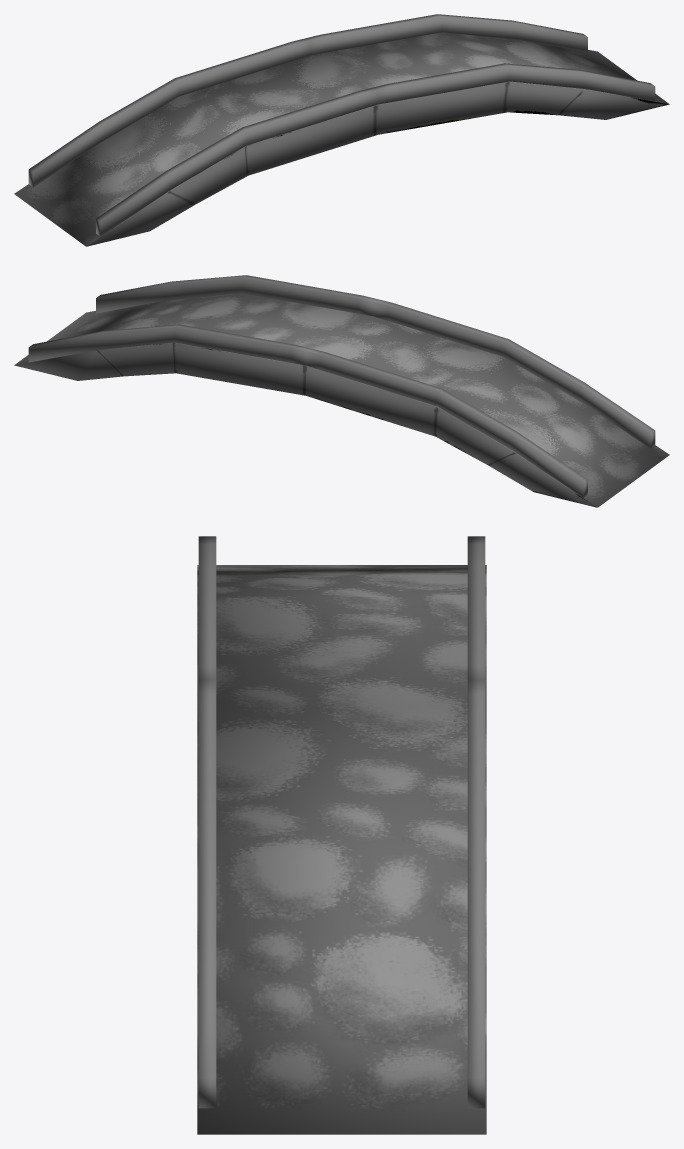
The model's file is betterbridge.glb.
3 renders of one model, top to bottom at view 1: azimuth 30°, elevation 25°; view 2: azimuth 150°, elevation 25°; view 3: azimuth 270°, elevation 25°, orthographic. The views are drawn at different scales.
Parts seen in each view (by area): view 1: Bridge, Cube; view 2: Bridge, Cube; view 3: Bridge, Cube.
Boxes of the visible parts, x1,y1,x2,y2 form: Bridge: [14, 32, 669, 246]; Cube: [28, 14, 655, 236]; Bridge: [14, 293, 669, 507]; Cube: [28, 275, 655, 497]; Bridge: [197, 565, 486, 1134]; Cube: [198, 536, 485, 1108].
Bounding box in the file's own units: 40.63 × 5.64 × 8.71.
2 materials, 1 textured.
